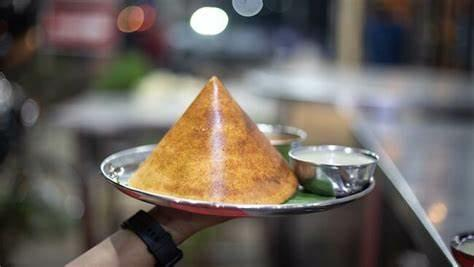Dosa: (126, 76, 299, 204)
